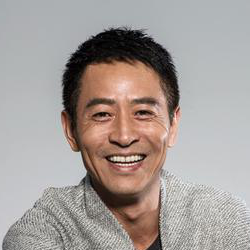unmask: (68, 58, 178, 195)
